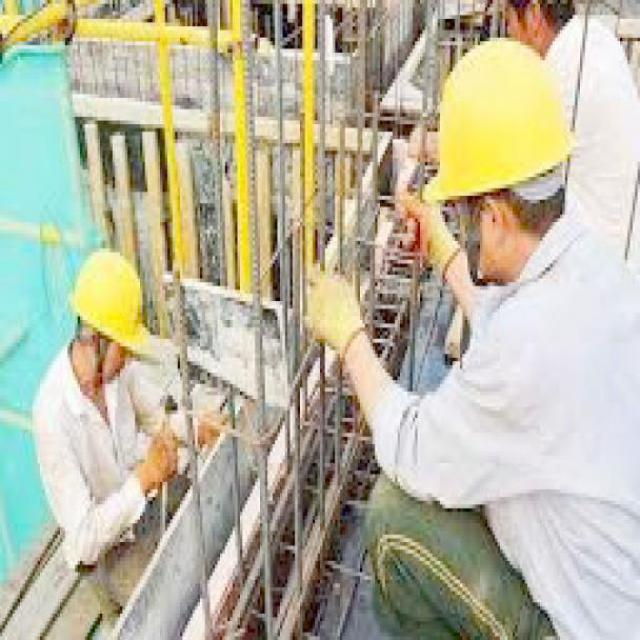gloves: (297, 252, 363, 366), (398, 184, 458, 275)
helmet: (420, 38, 573, 267), (55, 233, 150, 395)
